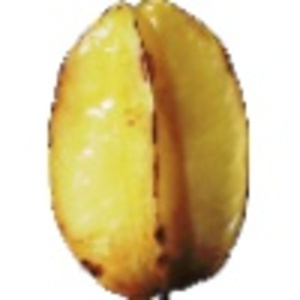carambola: (46, 1, 253, 300)
